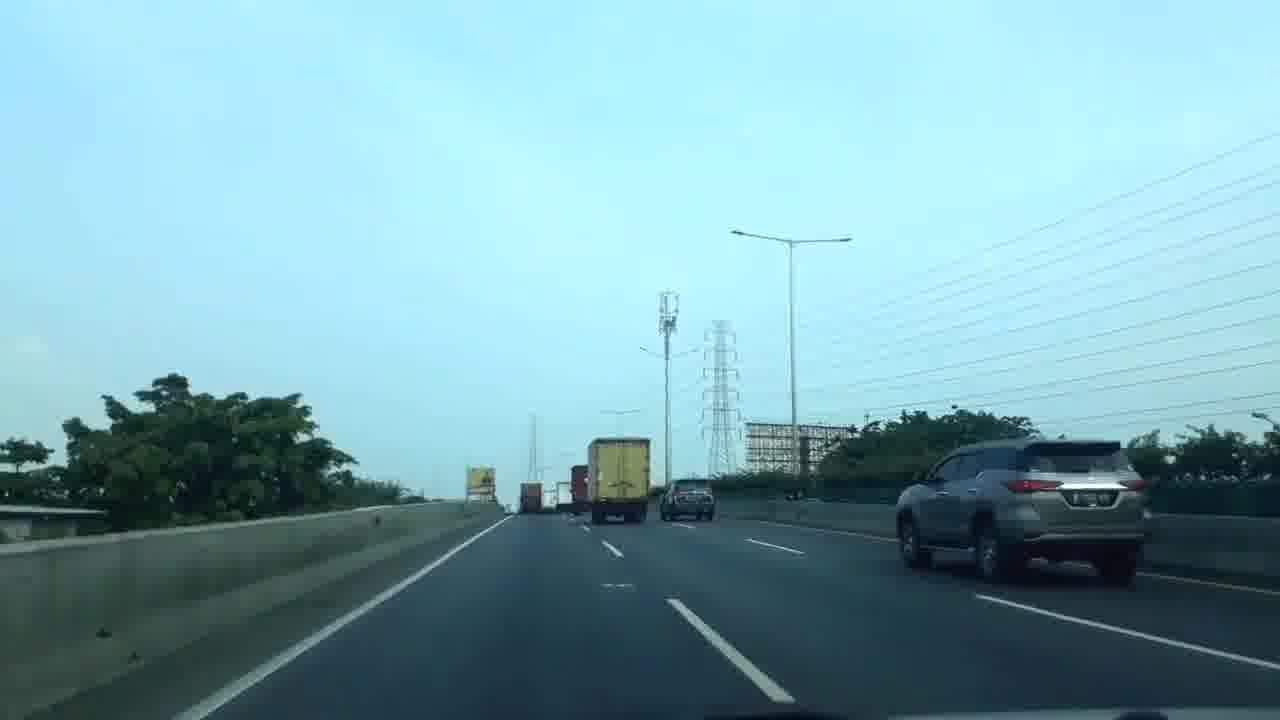plate_positive: (1072, 493, 1112, 505)
